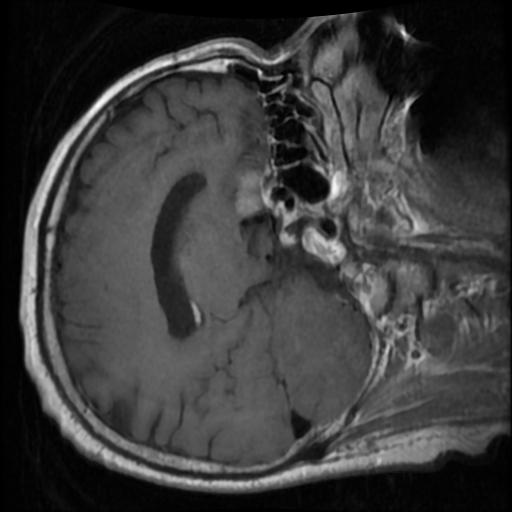pituitary tumour: (235, 169, 264, 214)
